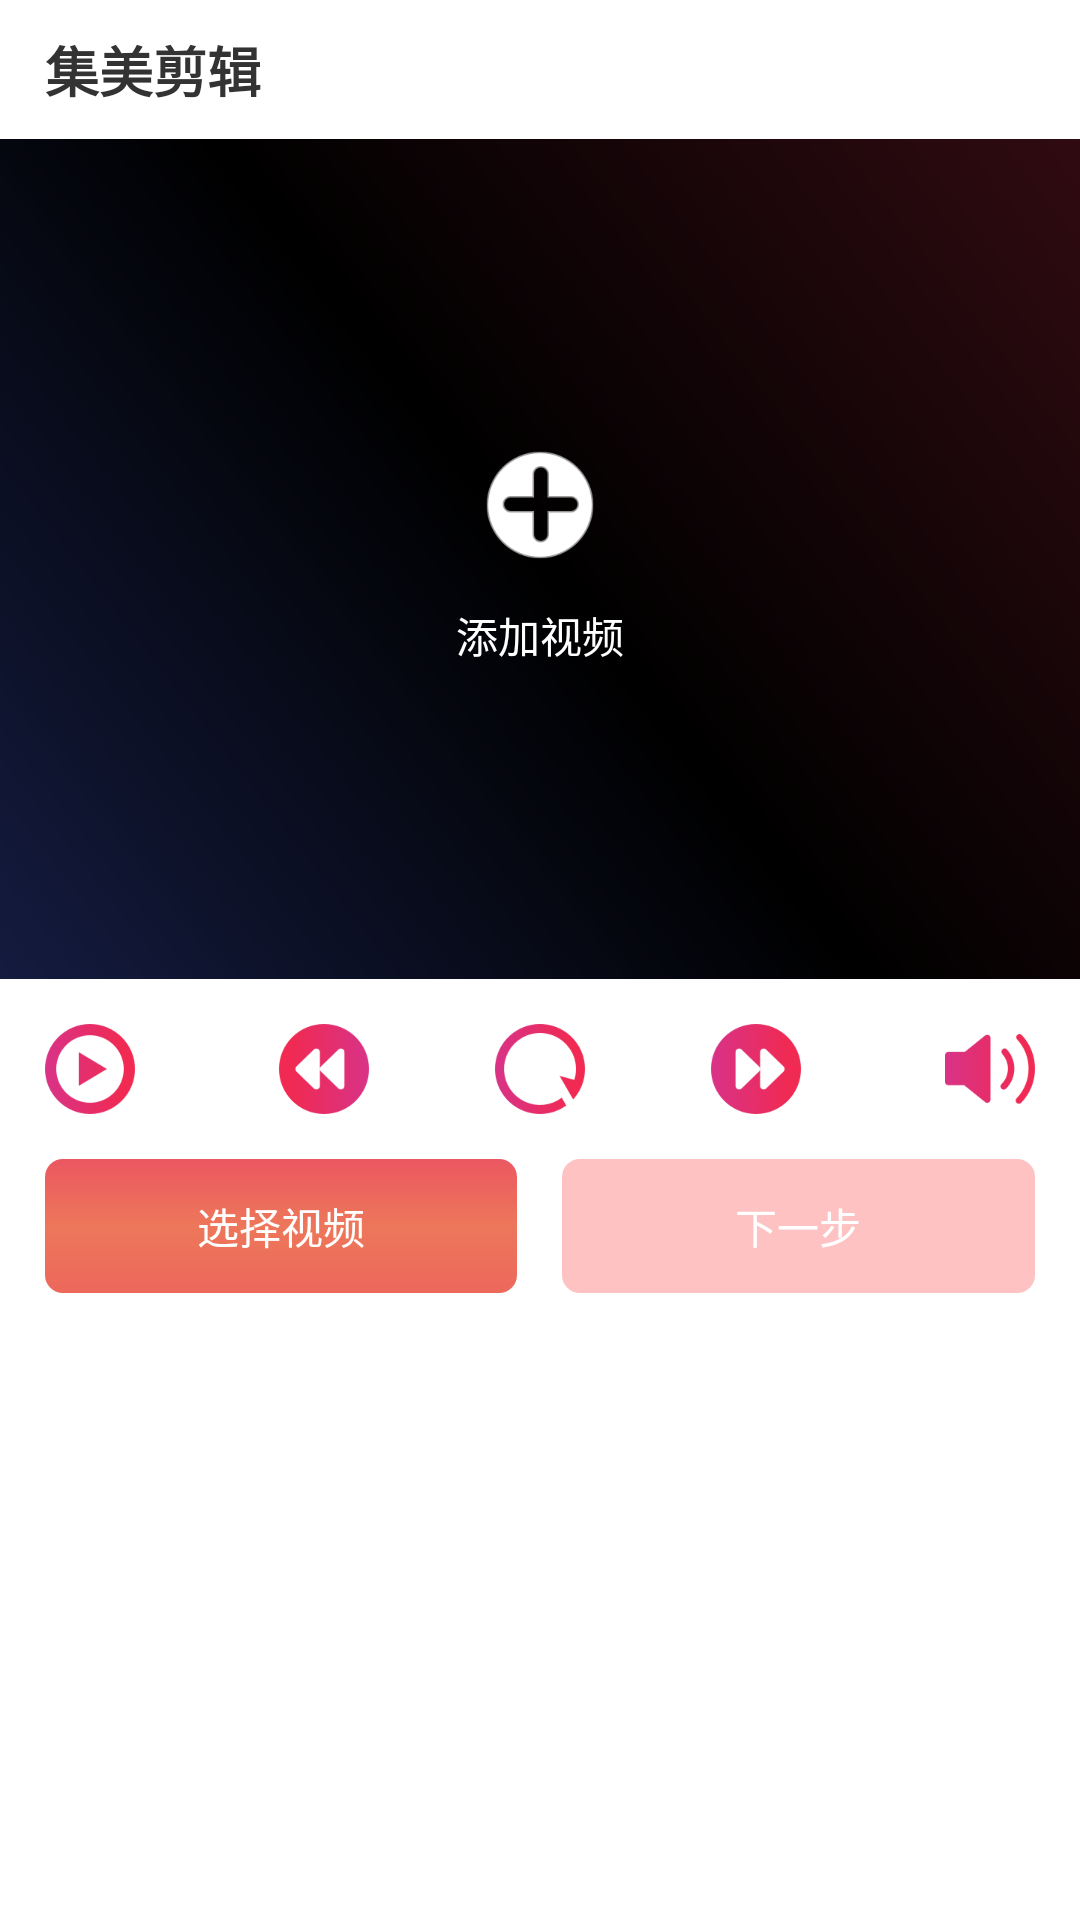

Icon bounding boxes for this 1080x1920 phone screenshot, format {"x1": x1, "y1": y1, "x2": x2, "y2": y2}:
add: {"x1": 486, "y1": 451, "x2": 594, "y2": 559}
left: {"x1": 279, "y1": 1024, "x2": 369, "y2": 1114}
play: {"x1": 45, "y1": 1024, "x2": 135, "y2": 1114}
reset: {"x1": 495, "y1": 1024, "x2": 585, "y2": 1114}
right: {"x1": 711, "y1": 1024, "x2": 801, "y2": 1114}
voice open: {"x1": 945, "y1": 1034, "x2": 1035, "y2": 1104}
